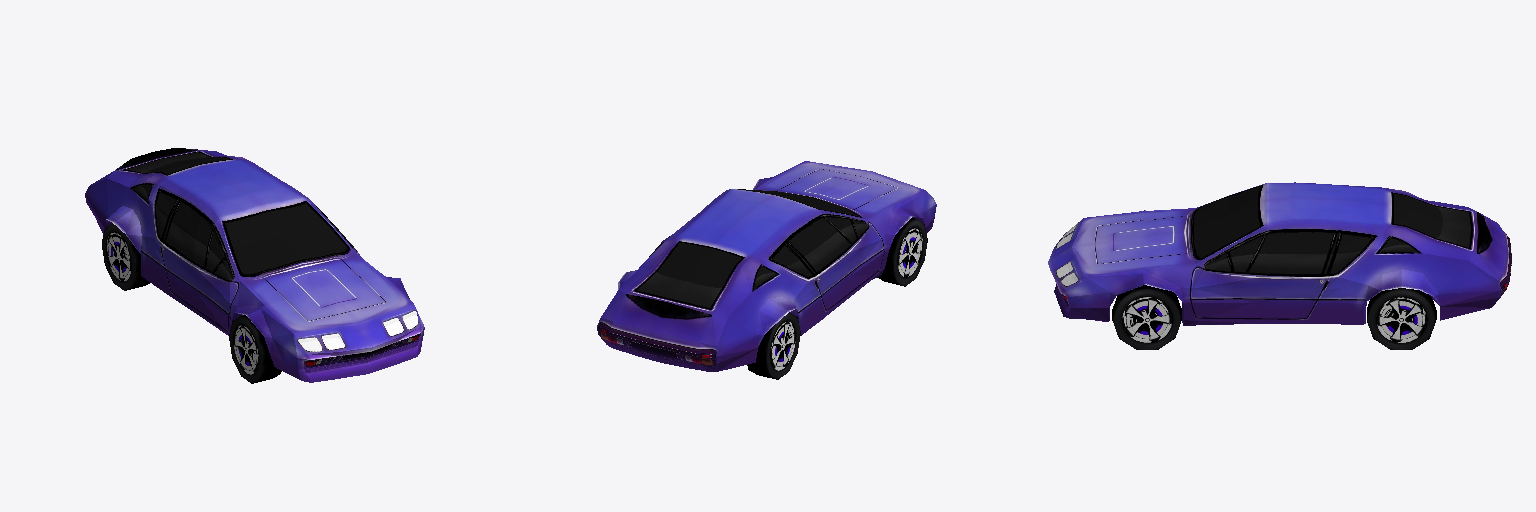
3 views of the same model, side by side, from view 1: azimuth 30°, elevation 25°; view 2: azimuth 150°, elevation 25°; view 3: azimuth 270°, elevation 25° (orthographic).
Visible parts, largest first — view 1: Cube_Cube.001; view 2: Cube_Cube.001; view 3: Cube_Cube.001.
Boxes of the visible parts, x1,y1,x2,y2 form: Cube_Cube.001: [85, 148, 424, 383]; Cube_Cube.001: [597, 161, 936, 379]; Cube_Cube.001: [1048, 182, 1511, 349].
Size of the model in its own units: 3.86 by 2.57 by 9.49.
1 materials, 1 textured.